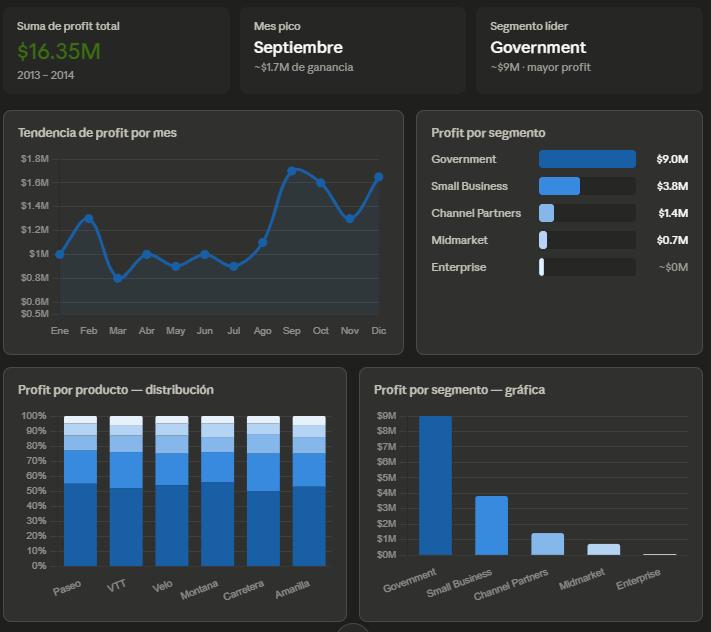

What the dashboard file says about the page in this screenshot:
{"tool":"powerbi","page":{"name":"Ganancias","canvas":[1280,720],"ordinal":2},"visuals":[{"type":"lineChart","fields":{"Y":["Sum(Sheet1.Profit)"]},"box":[10,0,280,280],"z":0},{"type":"lineChart","fields":{"Category":["Sheet1.Date.Variación.Jerarquía de fechas.Mes"],"Y":["Sum(Sheet1.Profit)"]},"box":[289,22.2,541,279.5],"z":1},{"type":"hundredPercentStackedColumnChart","fields":{"Category":["Sheet1.Product"],"Y":["Sum(Sheet1.Profit)"]},"box":[9.5,332.4,652.2,280.6],"z":2},{"type":"clusteredColumnChart","fields":{"Category":["Sheet1.Segment"],"Y":["Sum(Sheet1.Profit)"]},"box":[708.3,332.4,523,280.6],"z":3}]}

Visuals, with their boxes on the page's 1280x720 design canvas (x1, y1, x2, y2). These are canvas units, not pixel positions in the 711x632 screenshot, which may show the page scaled, cropped or inside an application window:
lineChart - Sum(Sheet1.Profit): (left=10, top=0, right=290, bottom=280)
lineChart - Sheet1.Date.Variación.Jerarquía de fechas.Mes x Sum(Sheet1.Profit): (left=289, top=22, right=830, bottom=302)
hundredPercentStackedColumnChart - Sheet1.Product x Sum(Sheet1.Profit): (left=10, top=332, right=662, bottom=613)
clusteredColumnChart - Sheet1.Segment x Sum(Sheet1.Profit): (left=708, top=332, right=1231, bottom=613)
